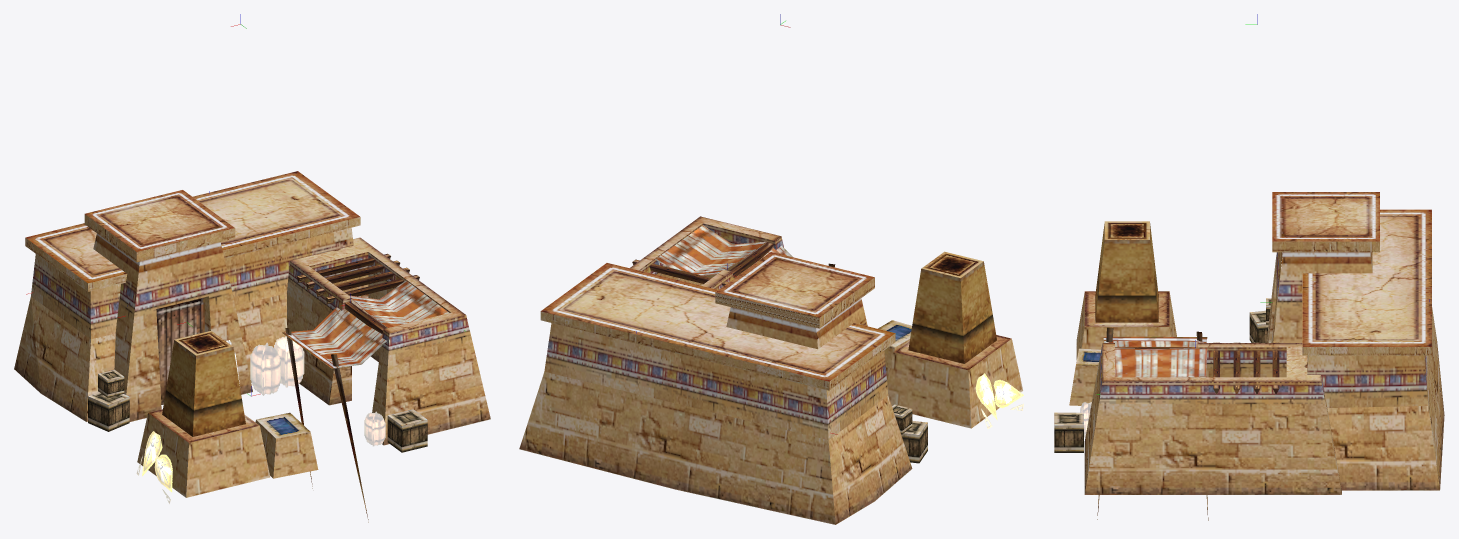
The model's file is egyptian-armory.glb.
3 renders of one model, left to right at view 1: azimuth 30°, elevation 25°; view 2: azimuth 150°, elevation 25°; view 3: azimuth 270°, elevation 25°, orthographic. The views are drawn at different scales.
Parts seen in each view (by area): view 1: building e armory age2Model; view 2: building e armory age2Model; view 3: building e armory age2Model.
Part boxes in pixels (<box>): building e armory age2Model: <box>14,171,490,522</box>; building e armory age2Model: <box>519,216,1023,524</box>; building e armory age2Model: <box>1054,192,1444,520</box>.
Bounding box in the file's own units: 8.03 × 11.33 × 8.23.
7 materials, 6 textured.
